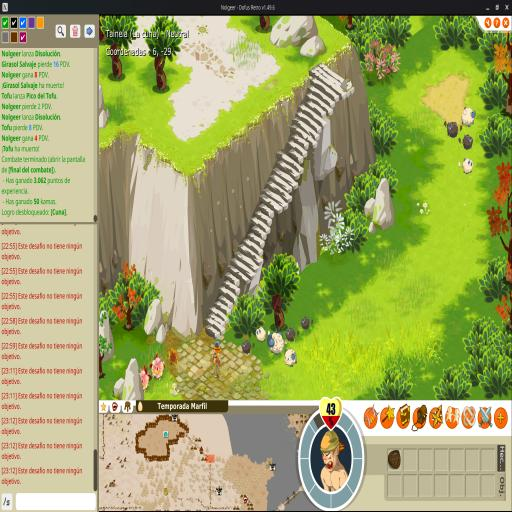Enemigos: (266, 330, 286, 356), (149, 352, 166, 380), (138, 364, 152, 392), (444, 120, 462, 140), (461, 106, 476, 128), (458, 157, 475, 175), (284, 348, 298, 368), (458, 134, 474, 151), (284, 327, 300, 343), (300, 315, 314, 331), (241, 339, 255, 355), (168, 346, 179, 366), (255, 326, 267, 343)
Personaje: (212, 340, 222, 378)
